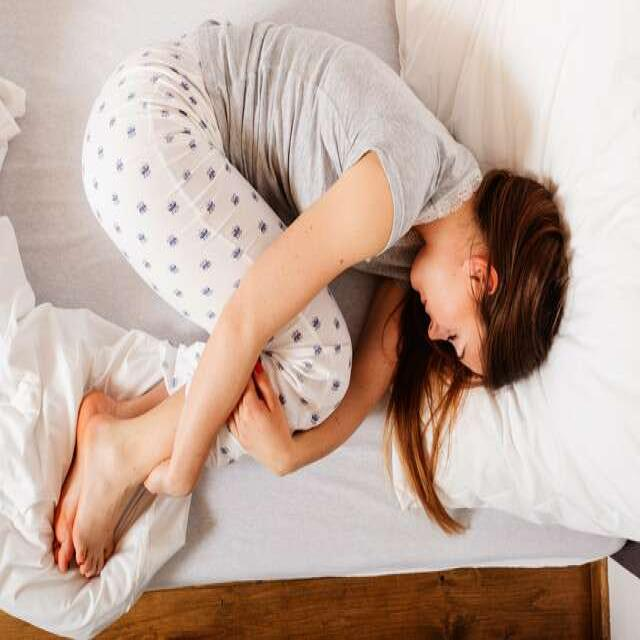sleeping-person: (28, 10, 588, 634)
